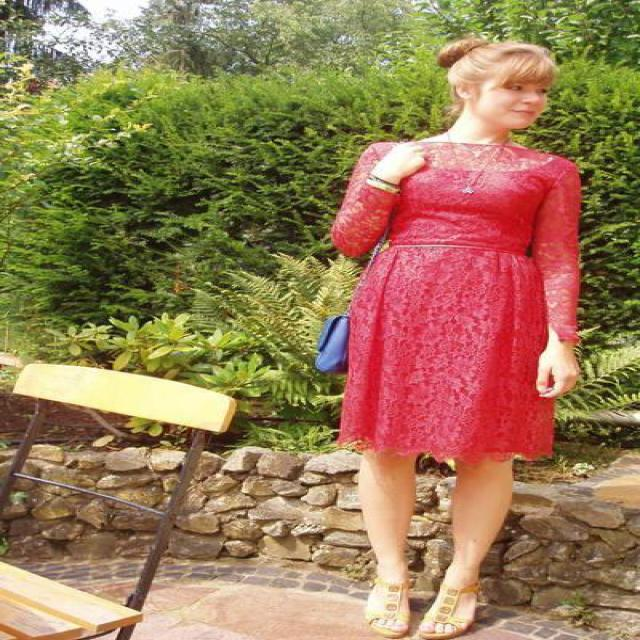bag: (316, 316, 350, 370)
dress: (327, 135, 590, 472)
shoe: (355, 576, 491, 639)
